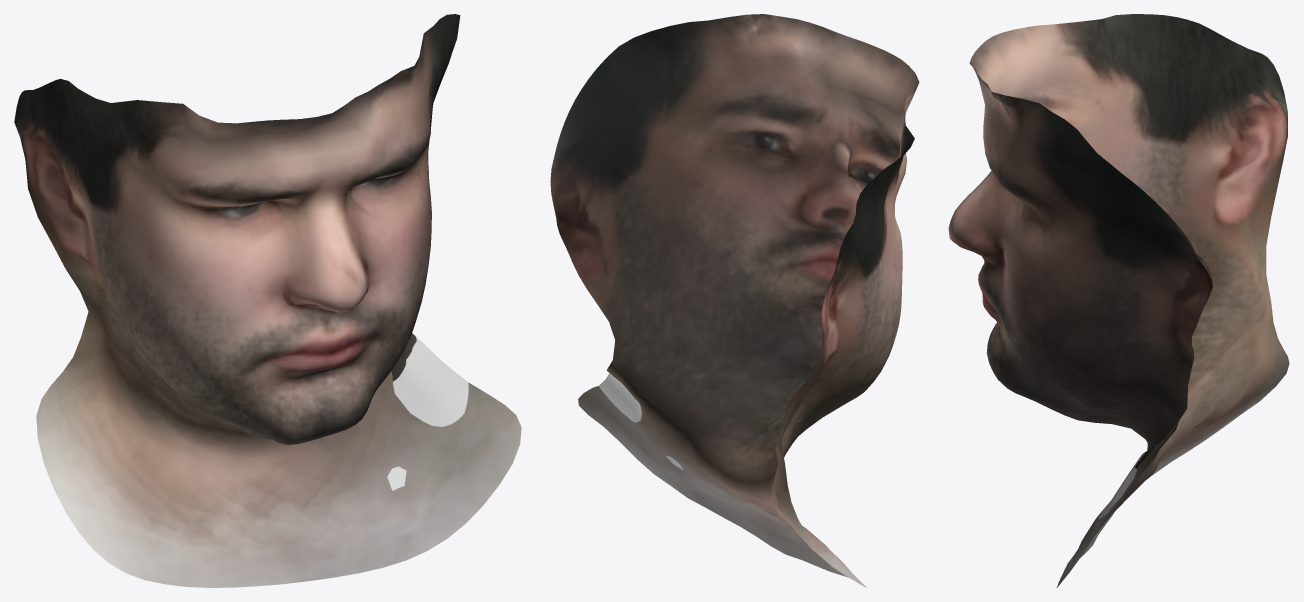
The model's file is 123DAlexHead.fbx.
3 views of the same model, side by side, from view 1: azimuth 30°, elevation 25°; view 2: azimuth 150°, elevation 25°; view 3: azimuth 270°, elevation 25° (orthographic). The views are drawn at different scales.
Visible parts, largest first — view 1: Remesh; view 2: Remesh; view 3: Remesh.
Part boxes in pixels (<box>): Remesh: <box>14,14,521,587</box>; Remesh: <box>550,14,919,587</box>; Remesh: <box>948,14,1289,587</box>.
Size of the model in its own units: 21.85 by 28.53 by 17.9.
